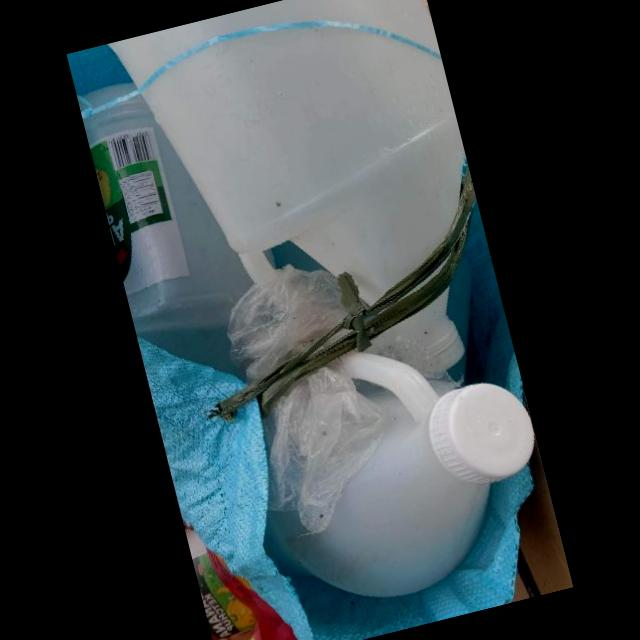chai_nhua: (264, 352, 535, 598), (384, 291, 465, 376)
hop_nhua: (108, 0, 466, 306), (77, 82, 253, 369)
tui_ni_long: (268, 359, 386, 533), (227, 263, 348, 386)
